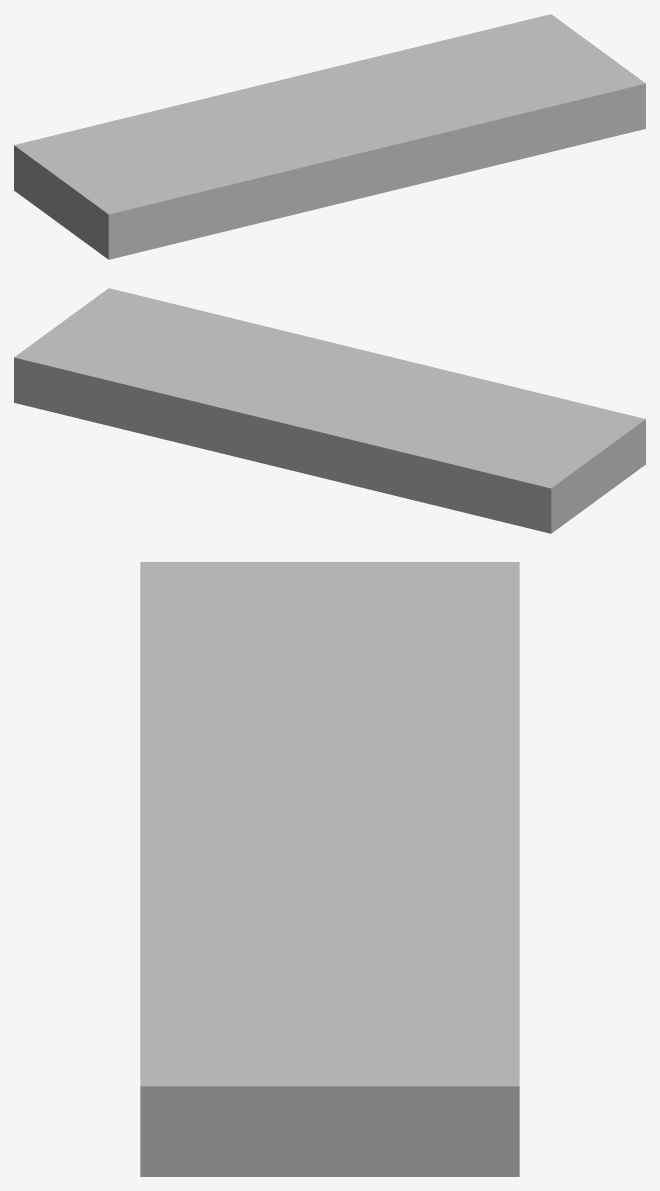
File: Itr_Wardrobe4_Base_06.FBX
3 renders of one model, top to bottom at view 1: azimuth 30°, elevation 25°; view 2: azimuth 150°, elevation 25°; view 3: azimuth 270°, elevation 25°, orthographic. The views are drawn at different scales.
Parts seen in each view (by area): view 1: Itr_Wardrobe4_Base_06; view 2: Itr_Wardrobe4_Base_06; view 3: Itr_Wardrobe4_Base_06.
Part boxes in pixels (left/top/right/bottom): Itr_Wardrobe4_Base_06: left=14, top=14, right=645, bottom=259; Itr_Wardrobe4_Base_06: left=14, top=288, right=645, bottom=533; Itr_Wardrobe4_Base_06: left=140, top=562, right=519, bottom=1176.
Size of the model in its own units: 63.07 by 5.09 by 19.28.
